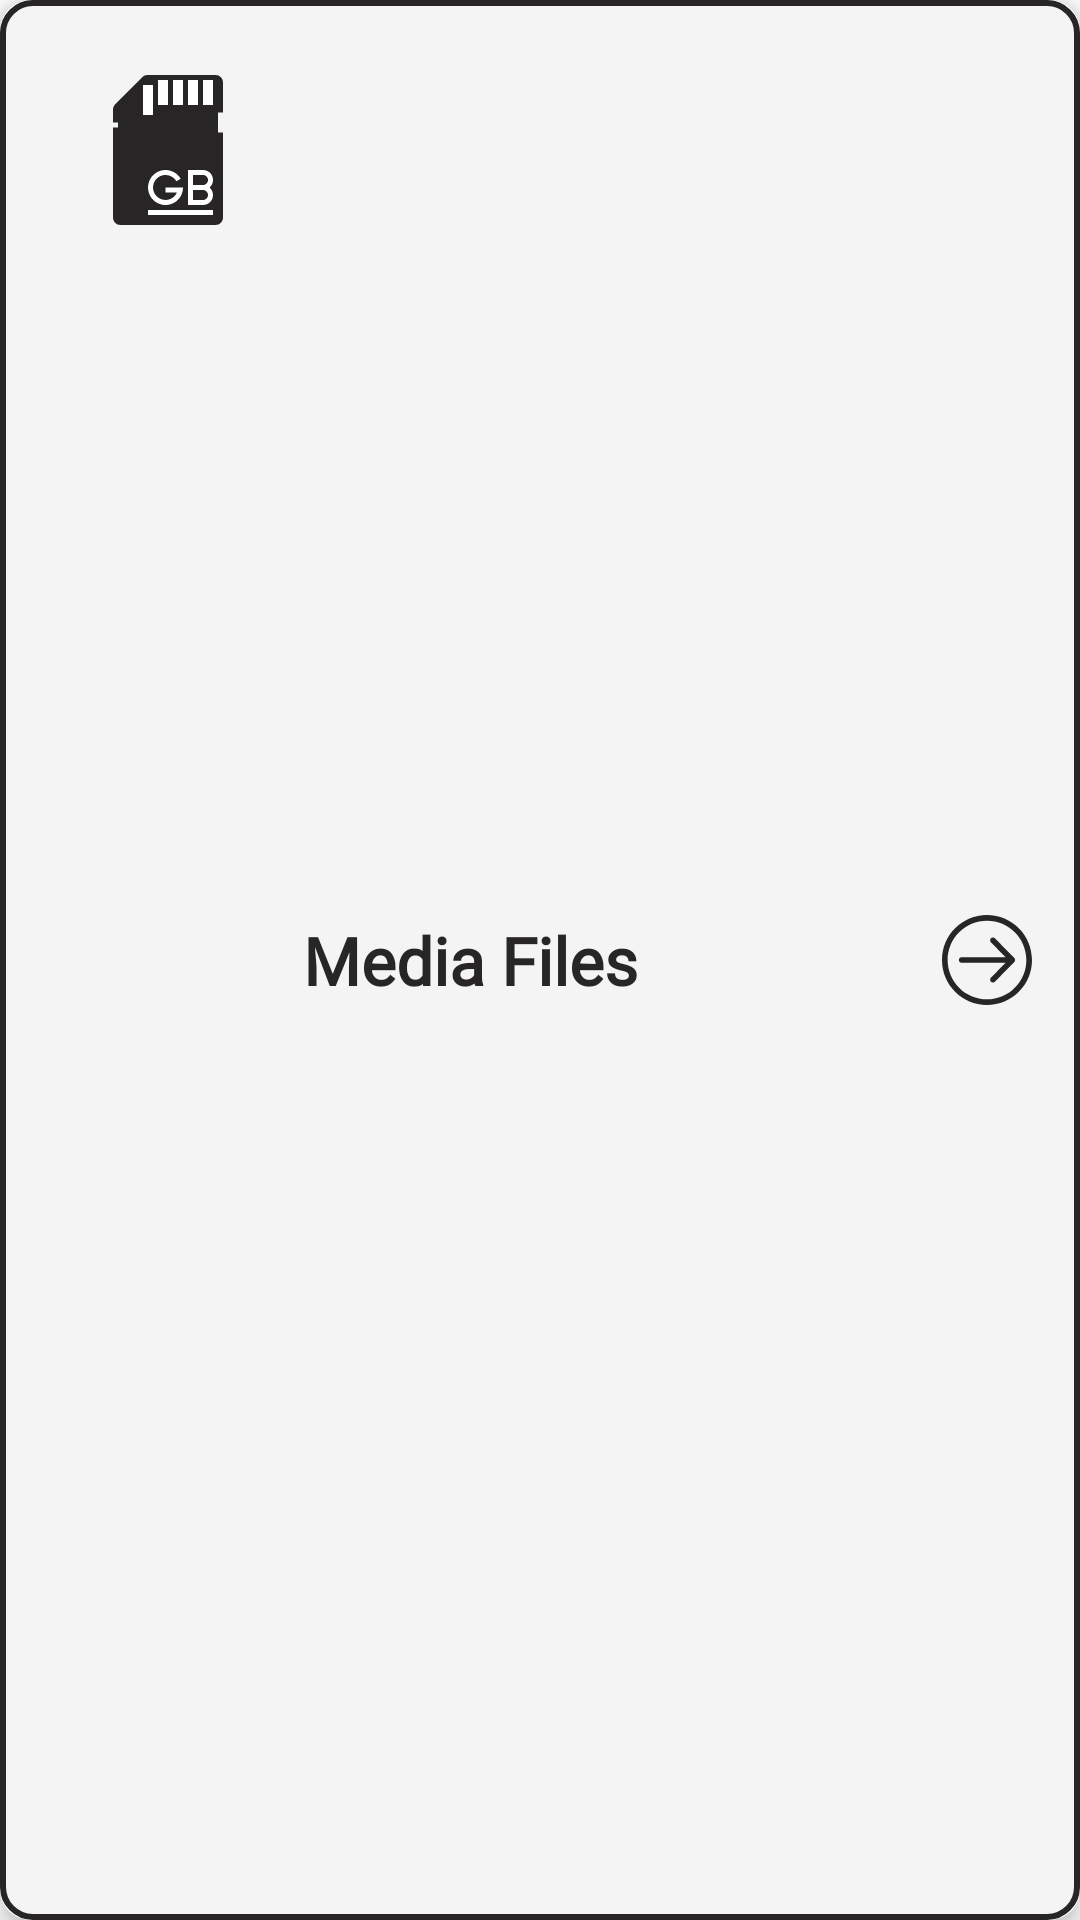

Icon bounding boxes for this 1080px×1920px phone screenshot, format Rect(x1, y1, x2, y2):
external storage: Rect(113, 75, 223, 225)
next: Rect(942, 915, 1032, 1005)
